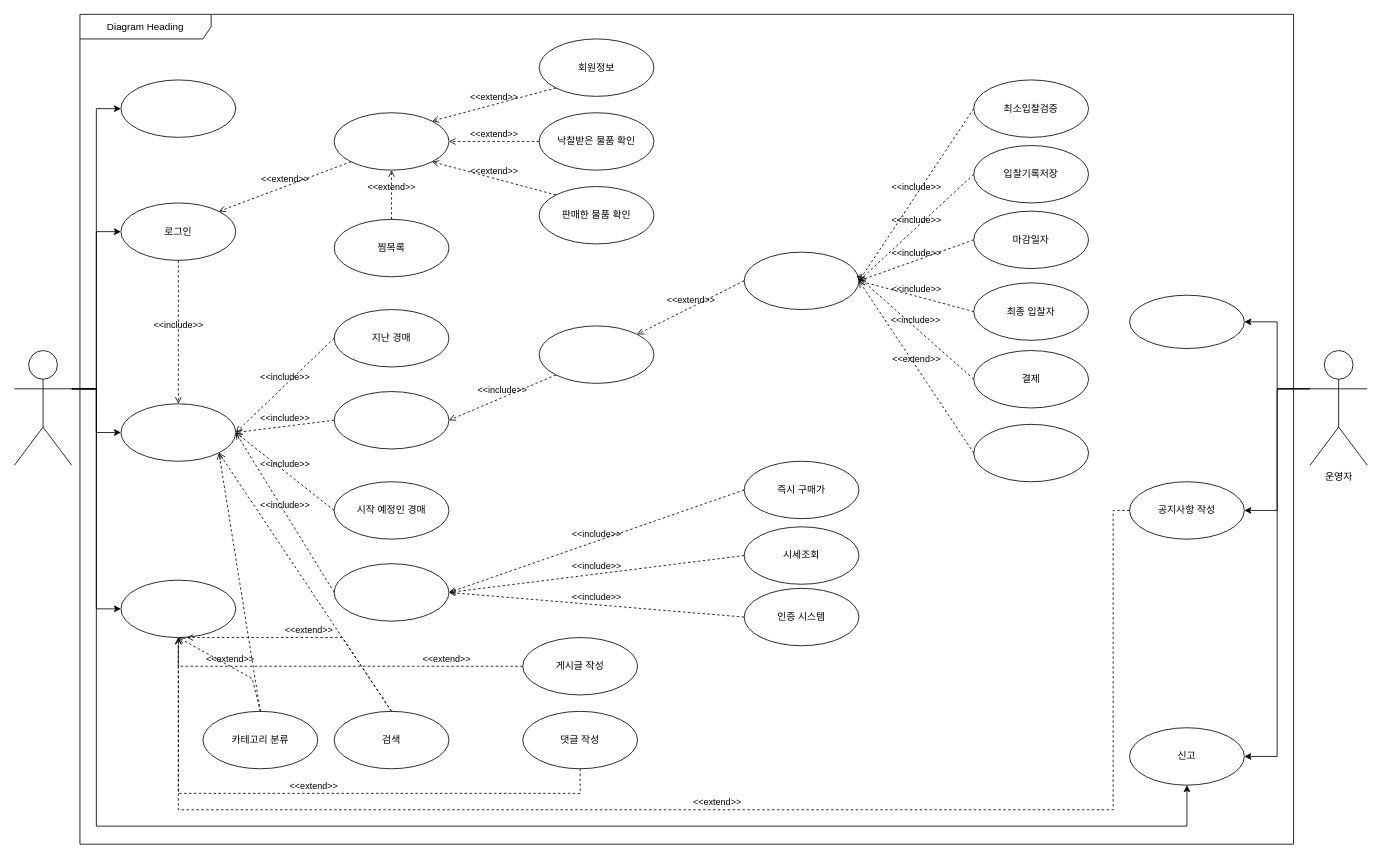
The diagram is 1382 pixels wide and 859 high, and some of its shapes have lost their labels. Each missing label, with the centre of its shape:
경 매 게시판: (178,432)
경매상세조회: (596,354)
마이페이지: (391,141)
물건 등록: (391,592)
사용자: (43,407)
알림: (1031,453)
유저관리: (1186,321)
입찰참여: (801,280)
진행중인 경매: (391,420)
커뮤니티: (178,608)
회원가입: (178,108)
